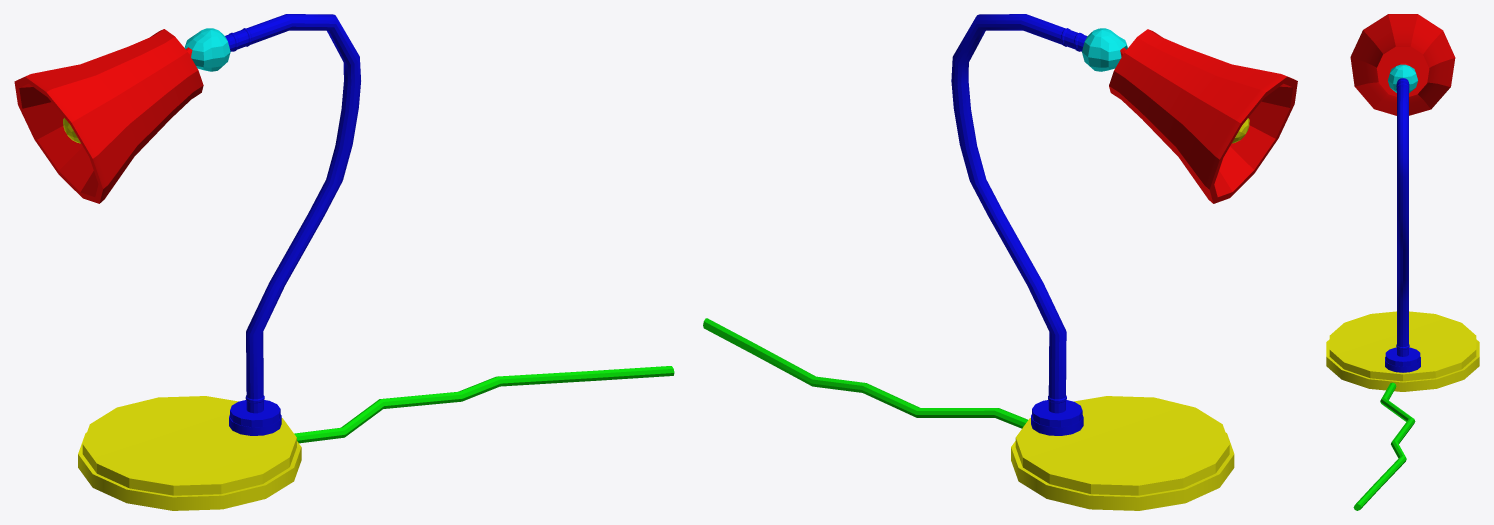
Rendered from lamp.fbx.
The picture shows the model from 3 angles, left to right: view 1: azimuth 30°, elevation 25°; view 2: azimuth 150°, elevation 25°; view 3: azimuth 270°, elevation 25°; orthographic projection. The views are drawn at different scales.
Visible parts, largest first — view 1: desk_lamp; view 2: desk_lamp; view 3: desk_lamp.
Boxes of the visible parts, x1,y1,x2,y2 form: desk_lamp: [14, 14, 674, 510]; desk_lamp: [703, 14, 1297, 510]; desk_lamp: [1326, 14, 1479, 510].
Size of the model in its own units: 12.74 by 8.8 by 3.99.
